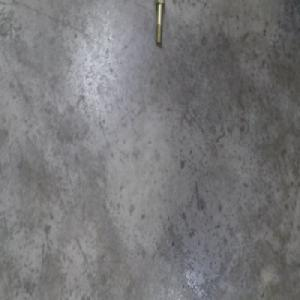Bolt: (152, 1, 166, 48)
